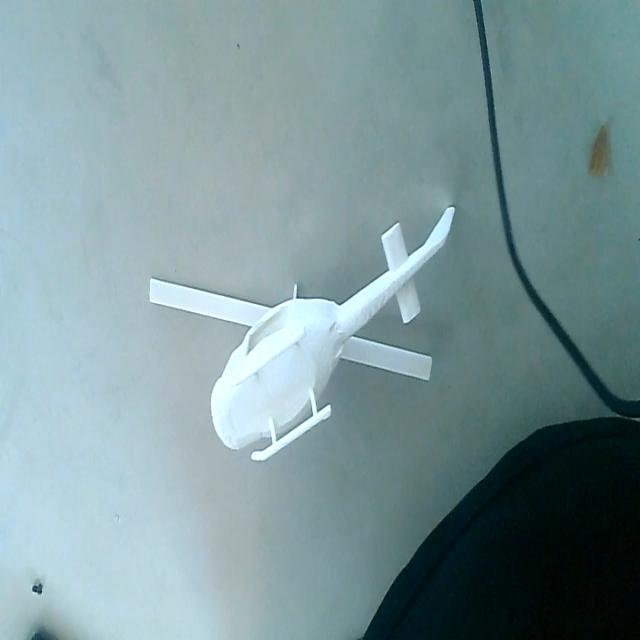Helicopter: (147, 205, 463, 466)
